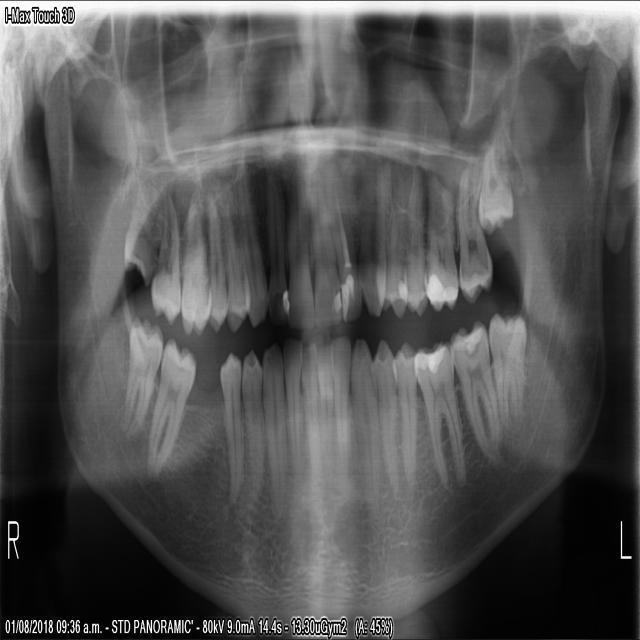LCD: (348, 330, 380, 489)
LCU: (351, 188, 386, 315)
LID: (328, 335, 352, 469), (314, 341, 333, 481)
LIU: (329, 188, 362, 324), (309, 185, 340, 325)
LMD: (412, 328, 470, 492), (448, 317, 502, 469), (485, 304, 527, 427)
LMU: (456, 166, 493, 308), (420, 171, 458, 308), (473, 148, 514, 240)
LPMD: (370, 330, 401, 487), (389, 333, 416, 481)
LPMU: (377, 184, 407, 321), (401, 175, 429, 319)
RCD: (259, 340, 286, 513)
RCU: (232, 188, 270, 330)
RID: (281, 334, 303, 472), (298, 337, 319, 460)
RIU: (285, 185, 314, 331), (262, 178, 287, 328)
RMD: (138, 328, 198, 487), (113, 300, 166, 451)
RMU: (148, 196, 180, 325), (179, 209, 210, 338)
RPMD: (214, 340, 244, 509), (241, 343, 266, 493)
RPMU: (219, 198, 247, 333), (206, 193, 228, 337)
